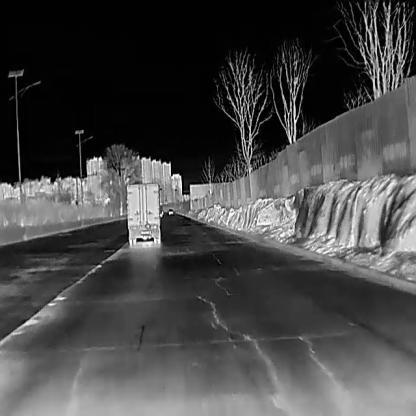car: (125, 182, 160, 246), (168, 207, 173, 214)
